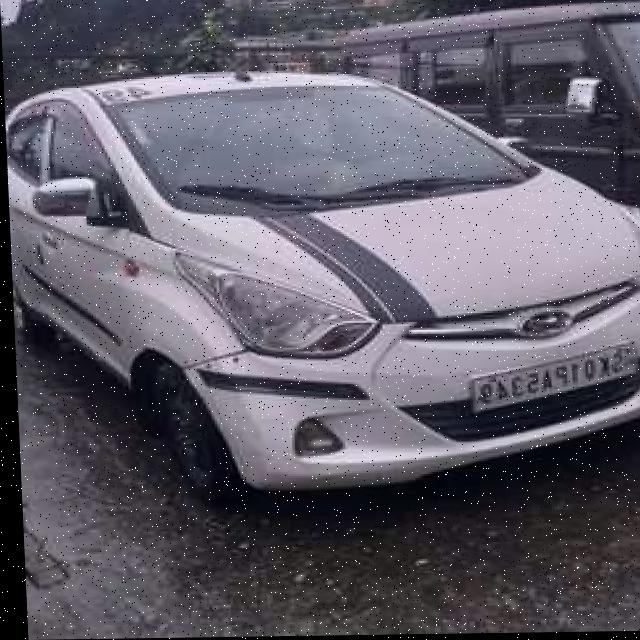plate: (459, 339, 640, 416)
